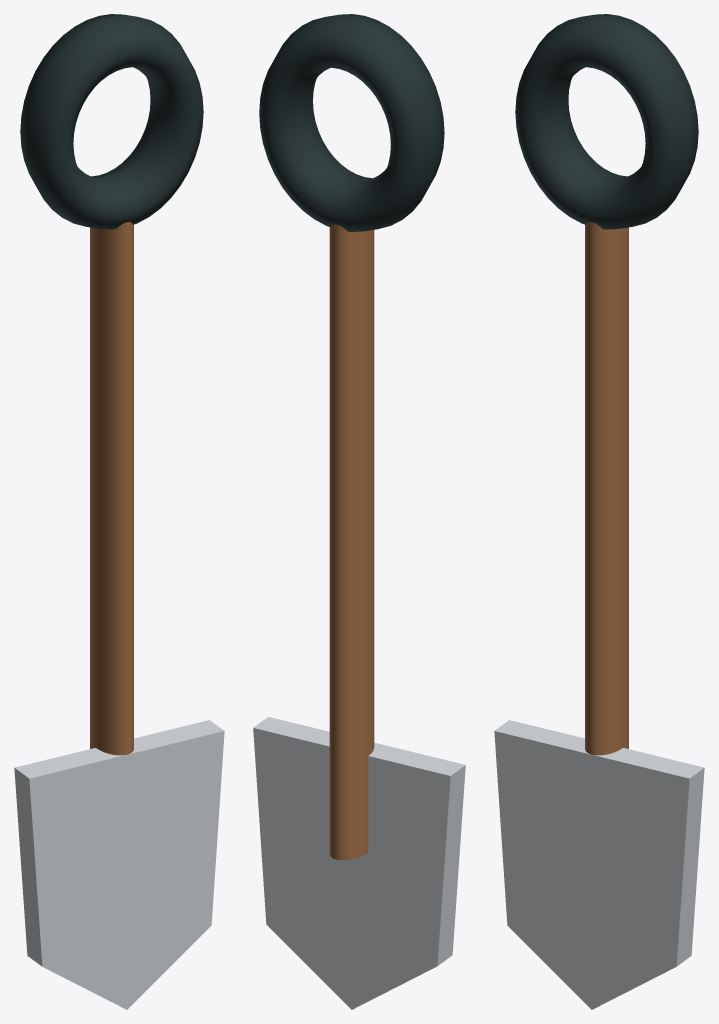
File: wp-pelle-de-jardin.glb
The picture shows the model from 3 angles, left to right: view 1: azimuth 30°, elevation 25°; view 2: azimuth 150°, elevation 25°; view 3: azimuth 330°, elevation 25°; orthographic projection.
Parts seen in each view (by area): view 1: wp-pelle-de-jardin; view 2: wp-pelle-de-jardin; view 3: wp-pelle-de-jardin.
Boxes of the visible parts, <box> form: wp-pelle-de-jardin: <box>14,14,224,1009</box>; wp-pelle-de-jardin: <box>253,14,465,1009</box>; wp-pelle-de-jardin: <box>494,14,704,1009</box>.
Bounding box in the file's own units: 0.25 × 1.2 × 0.08.
